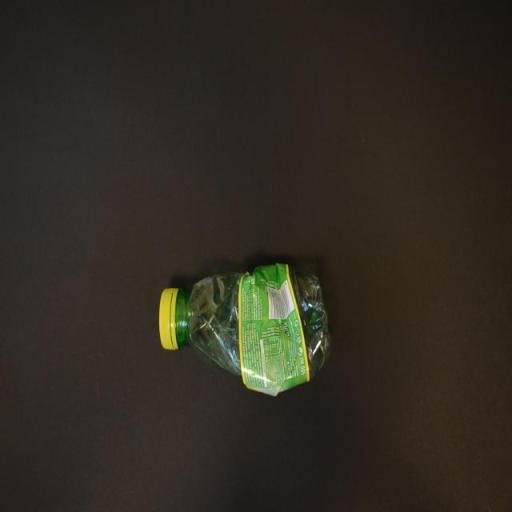plastic: (158, 262, 334, 398)
